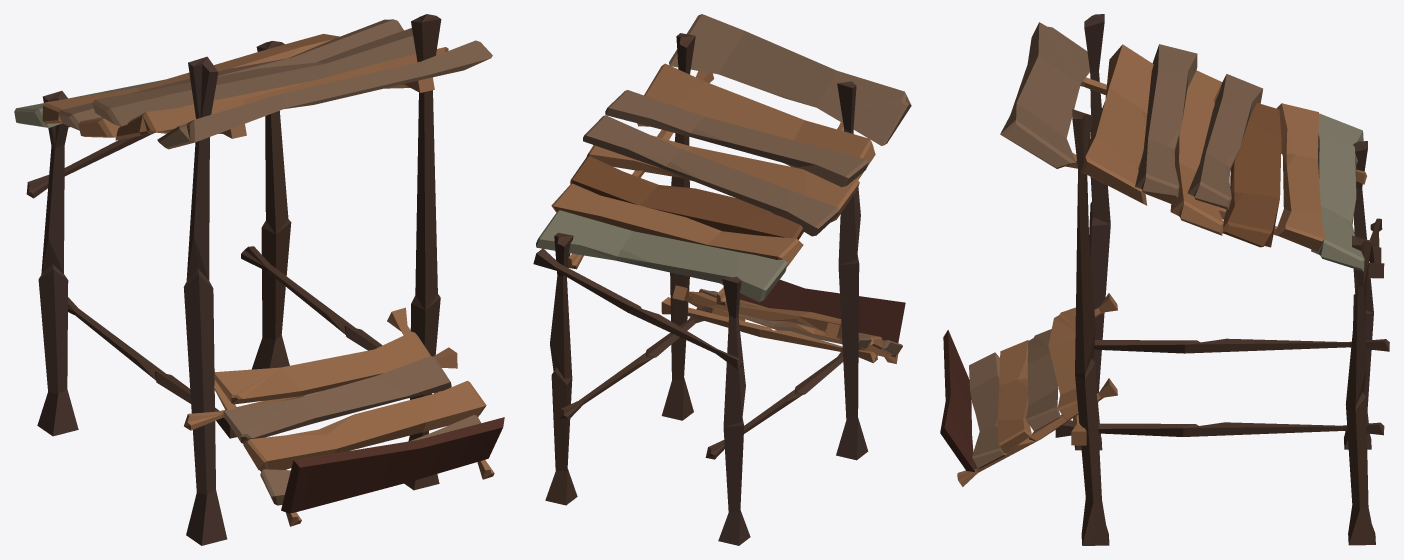
Rendered from SM_L_Stand.fbx.
3 views of the same model, side by side, from view 1: azimuth 30°, elevation 25°; view 2: azimuth 150°, elevation 25°; view 3: azimuth 270°, elevation 25° (orthographic). The views are drawn at different scales.
Visible parts, largest first — view 1: SM_L_Stand; view 2: SM_L_Stand; view 3: SM_L_Stand.
Boxes of the visible parts, x1=… form: SM_L_Stand: x1=14, y1=14, x2=504, y2=545; SM_L_Stand: x1=533, y1=14, x2=911, y2=545; SM_L_Stand: x1=940, y1=14, x2=1389, y2=545.
Size of the model in its own units: 2.2 by 3.06 by 2.91.
1 material, 1 textured.
